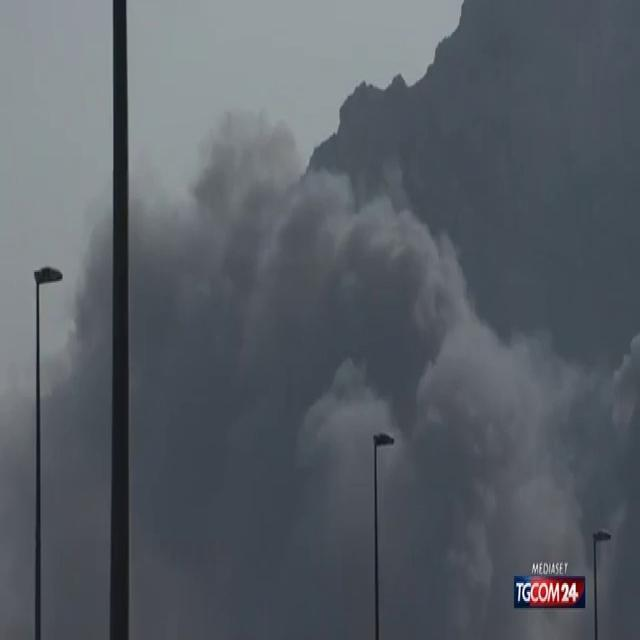Smoke: (127, 71, 594, 628)
